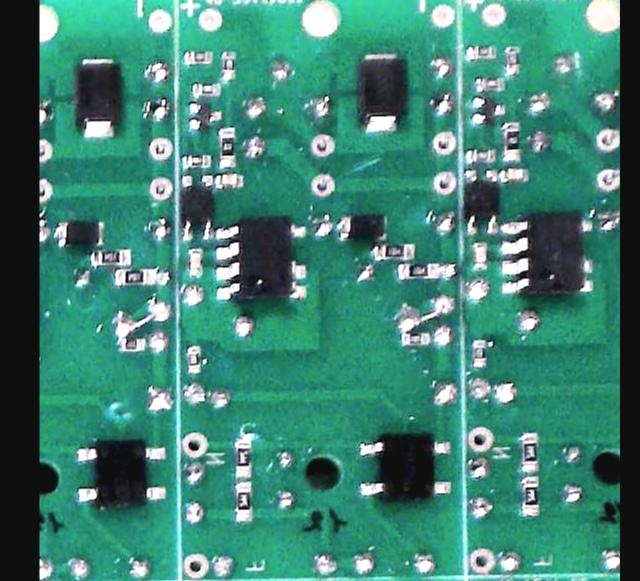chip-capacitor: (185, 246, 203, 279), (498, 166, 530, 184), (212, 172, 244, 189), (472, 241, 488, 272)
chip-resistor: (232, 435, 255, 479), (232, 481, 255, 524), (216, 127, 238, 169), (371, 243, 417, 263), (519, 432, 541, 473), (519, 476, 541, 517), (114, 267, 158, 287), (396, 261, 440, 280), (500, 120, 520, 160), (91, 248, 129, 267), (184, 344, 203, 376), (470, 337, 488, 370), (465, 147, 496, 166), (189, 80, 223, 97), (219, 49, 237, 81), (182, 48, 214, 65), (400, 330, 432, 347), (474, 75, 506, 92), (180, 153, 213, 169), (503, 46, 520, 76), (465, 44, 497, 59), (119, 336, 146, 352)
diode: (353, 51, 407, 133), (72, 56, 122, 141), (54, 217, 106, 247), (337, 214, 390, 242)
ic: (499, 211, 595, 298), (214, 217, 308, 305), (73, 436, 169, 510), (355, 431, 454, 500), (462, 165, 500, 233), (179, 172, 215, 241)
transistor: (469, 94, 507, 126), (186, 101, 222, 131)
